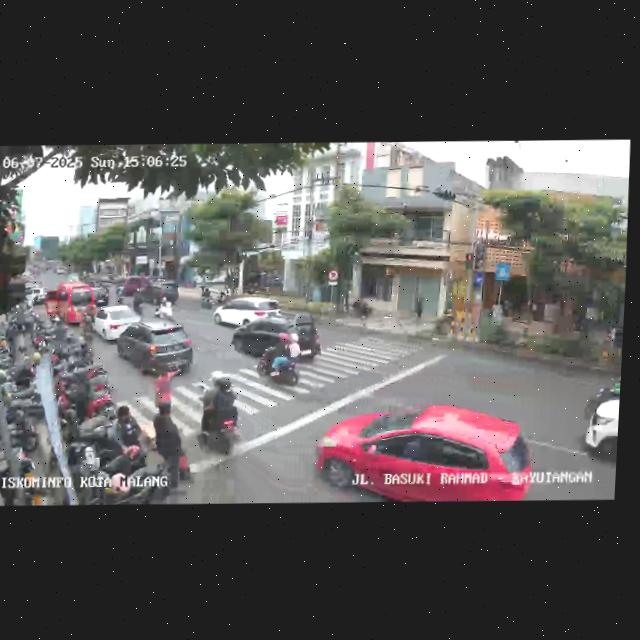car: (314, 403, 538, 504), (113, 319, 198, 379), (231, 315, 321, 362), (578, 391, 620, 469), (214, 295, 281, 331), (43, 283, 94, 326), (88, 304, 143, 341), (133, 279, 179, 317), (92, 285, 113, 306)
motorcycle: (195, 378, 245, 457), (257, 329, 305, 393), (152, 291, 175, 320), (200, 283, 214, 309)
person: (148, 400, 194, 493), (152, 365, 182, 415), (113, 403, 145, 447)
